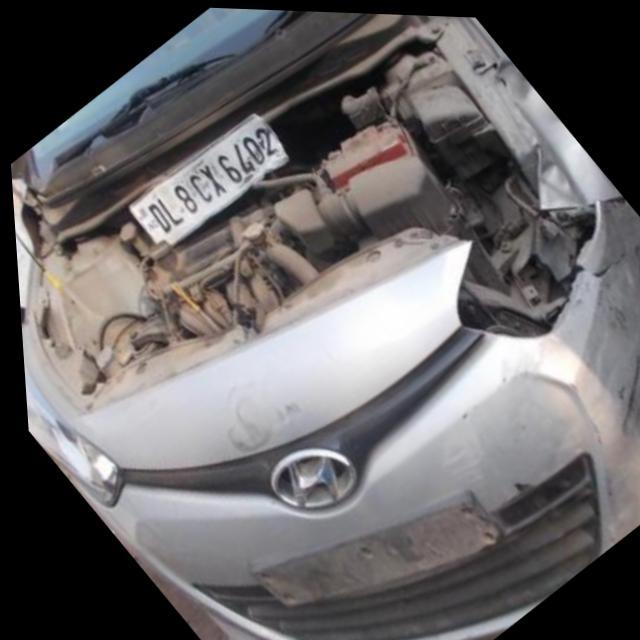crack: (493, 472, 531, 503)
dent: (499, 57, 617, 204)
no part: (453, 198, 595, 341)
rub: (439, 433, 481, 491)
scratch: (583, 415, 615, 539), (610, 349, 640, 420), (576, 247, 624, 276)
